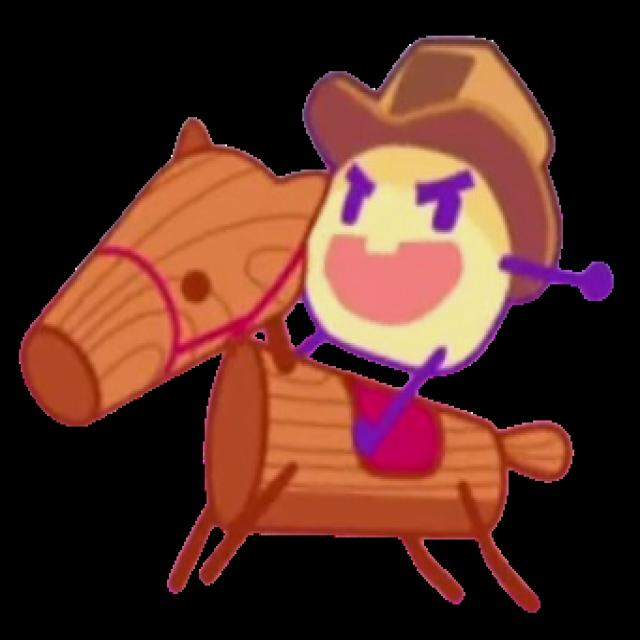qiu: (17, 31, 614, 613)
